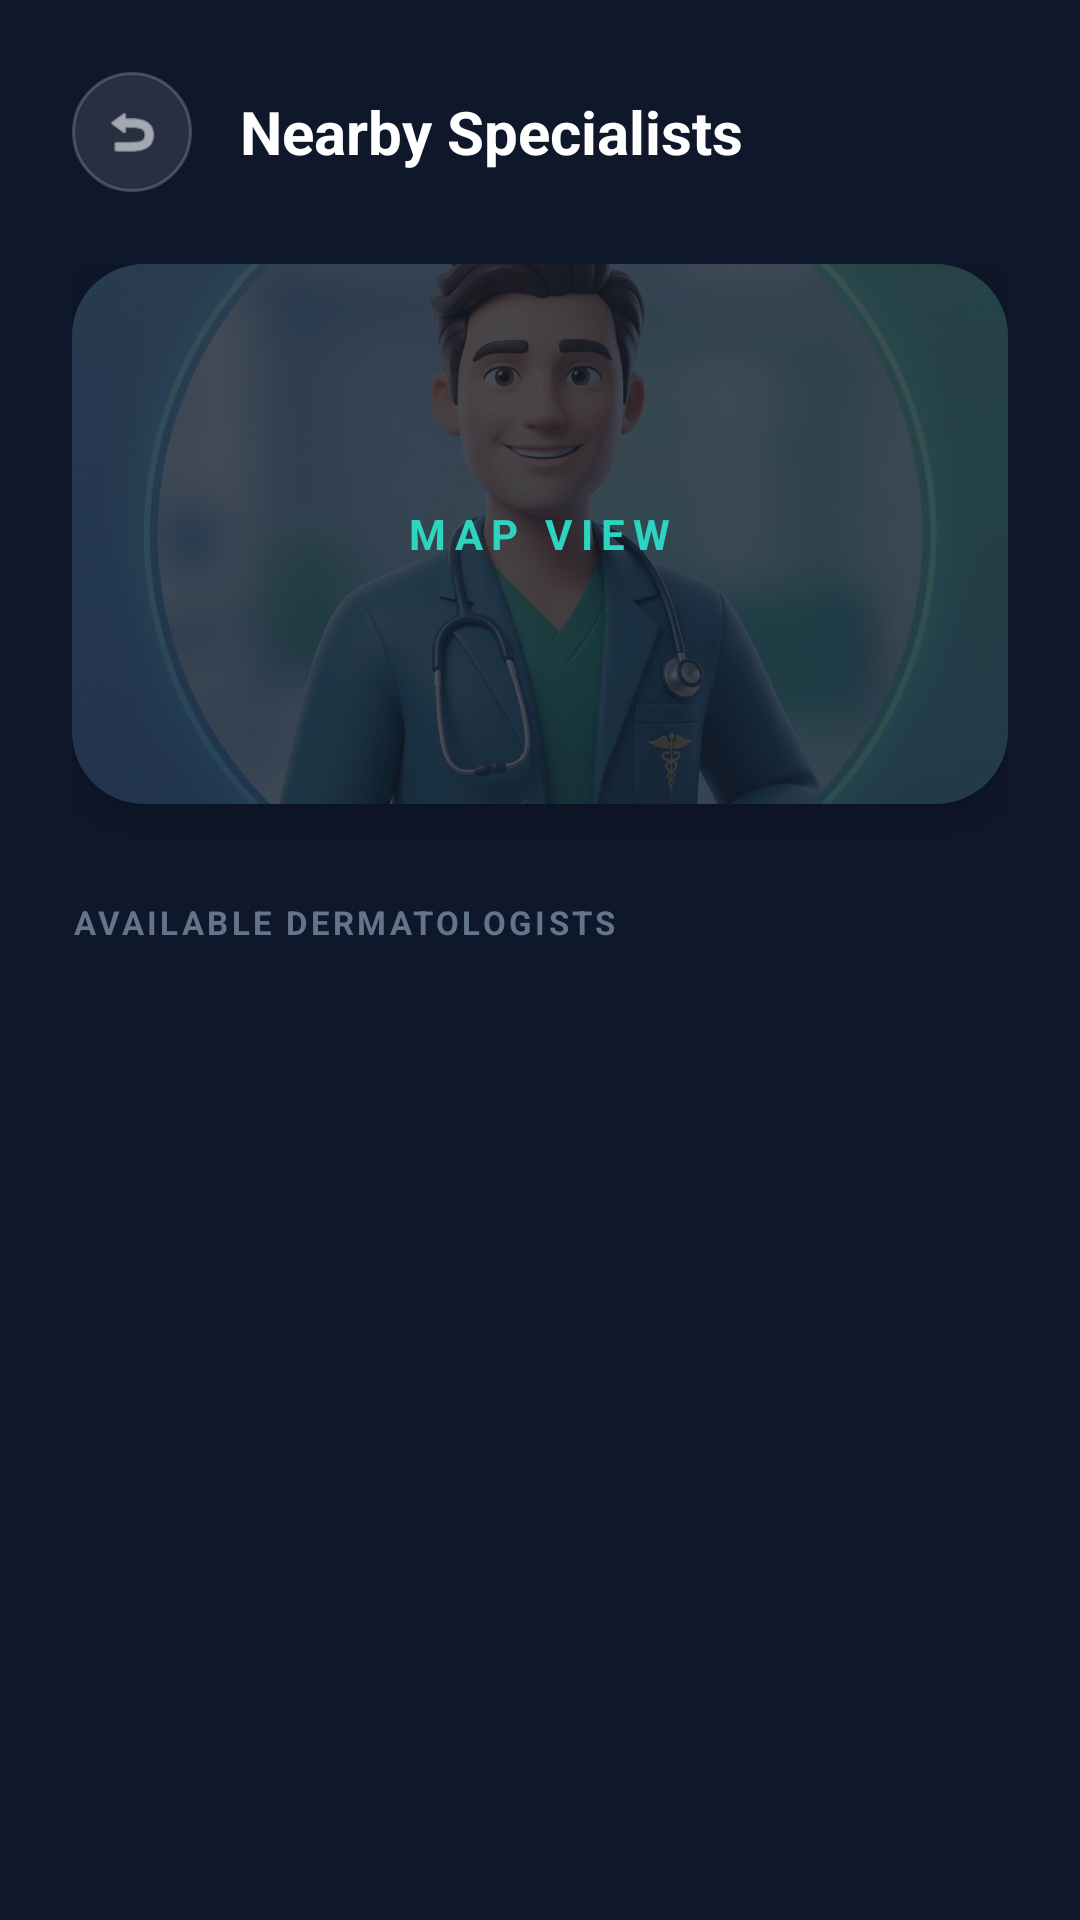

Icon bounding boxes for this 1080px×1920px phone screenshot, format (x1, y1, x2, y2):
revert: (72, 72, 192, 192)
